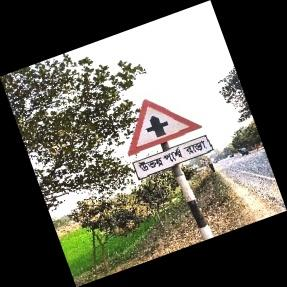Crossroad: (126, 99, 220, 187)
